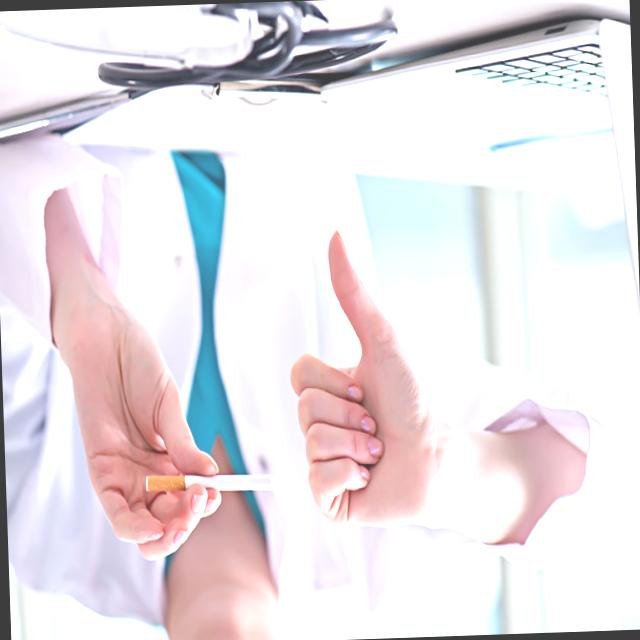smoke: (214, 470, 274, 492)
